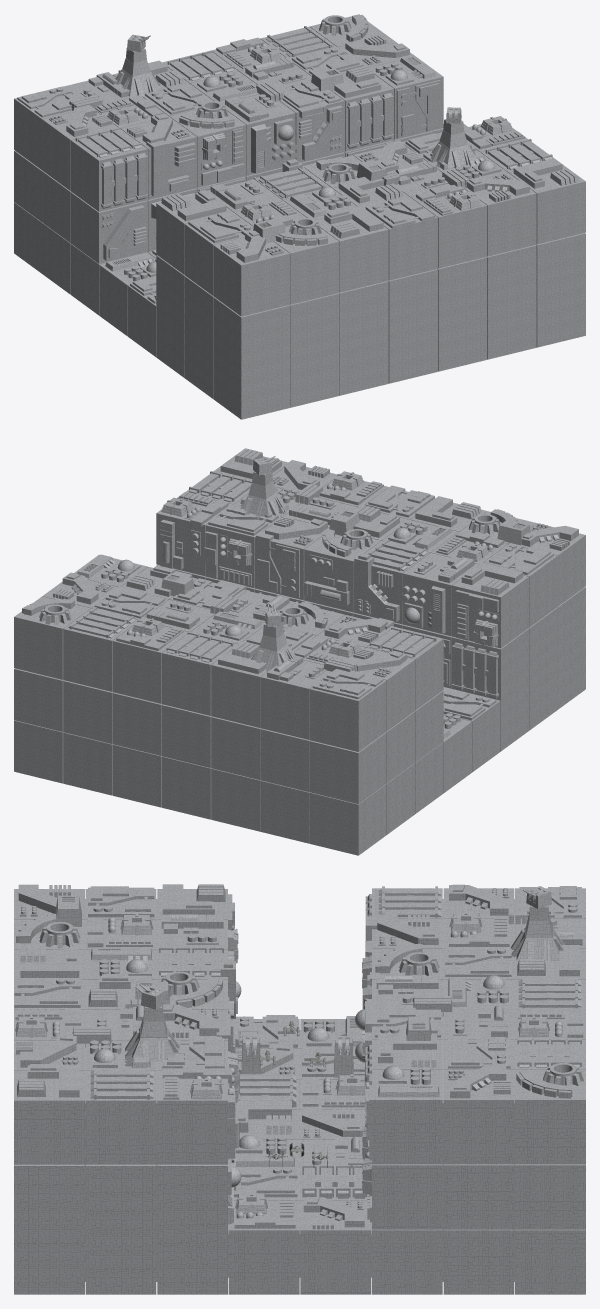
File: death_star_trench_run-transformed.glb
The picture shows the model from 3 angles, top to bottom: view 1: azimuth 30°, elevation 25°; view 2: azimuth 150°, elevation 25°; view 3: azimuth 270°, elevation 25°; orthographic projection. The views are drawn at different scales.
Visible parts, largest first — view 1: DeathStarTrench; view 2: DeathStarTrench (×2); view 3: DeathStarTrench.
Boxes of the visible parts, box(x1,y1,x2,y2) form: DeathStarTrench: box(14, 14, 585, 419); DeathStarTrench (×2): box(14, 448, 585, 855); DeathStarTrench: box(14, 884, 585, 1294).
Size of the model in its own units: 24.71 by 14.2 by 28.25.
Materials: 12 (8 with a texture image).
